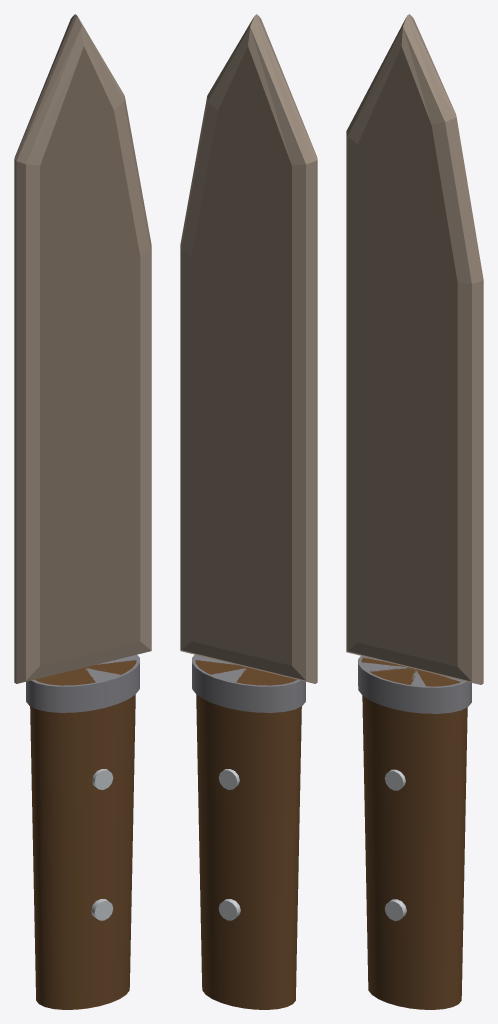
File: 01_Common_Rusty_Shiv.glb
3 renders of one model, left to right at view 1: azimuth 30°, elevation 25°; view 2: azimuth 150°, elevation 25°; view 3: azimuth 330°, elevation 25°, orthographic.
Parts seen in each view (by area): view 1: blade_0, handle_1, ferrule_2, rivet_4, rivet_3; view 2: blade_0, handle_1, ferrule_2, rivet_4, rivet_3; view 3: blade_0, handle_1, ferrule_2, rivet_4, rivet_3.
Boxes of the visible parts, left/top/right/bottom form: blade_0: left=14, top=14, right=151, bottom=683; handle_1: left=30, top=660, right=136, bottom=1009; ferrule_2: left=26, top=654, right=139, bottom=712; rivet_4: left=91, top=899, right=113, bottom=920; rivet_3: left=92, top=769, right=113, bottom=789; blade_0: left=180, top=14, right=317, bottom=683; handle_1: left=195, top=660, right=301, bottom=1009; ferrule_2: left=192, top=654, right=305, bottom=712; rivet_4: left=218, top=899, right=240, bottom=920; rivet_3: left=218, top=769, right=239, bottom=789; blade_0: left=346, top=14, right=483, bottom=684; handle_1: left=361, top=657, right=467, bottom=1009; ferrule_2: left=358, top=656, right=471, bottom=713; rivet_4: left=385, top=899, right=406, bottom=920; rivet_3: left=384, top=769, right=405, bottom=790.
Bounding box in the file's own units: 0.065 × 0.45 × 0.0349.
Materials: 5 (5 with a texture image).
